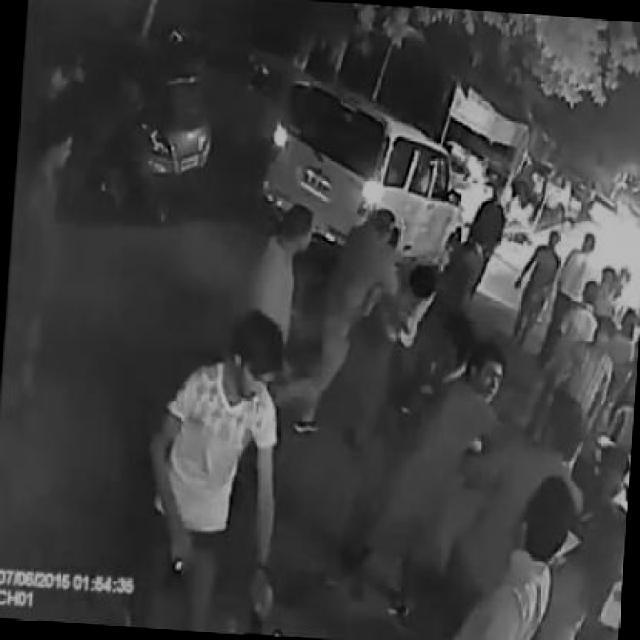fight: (322, 208, 440, 394)
non-fight: (149, 324, 311, 640)
